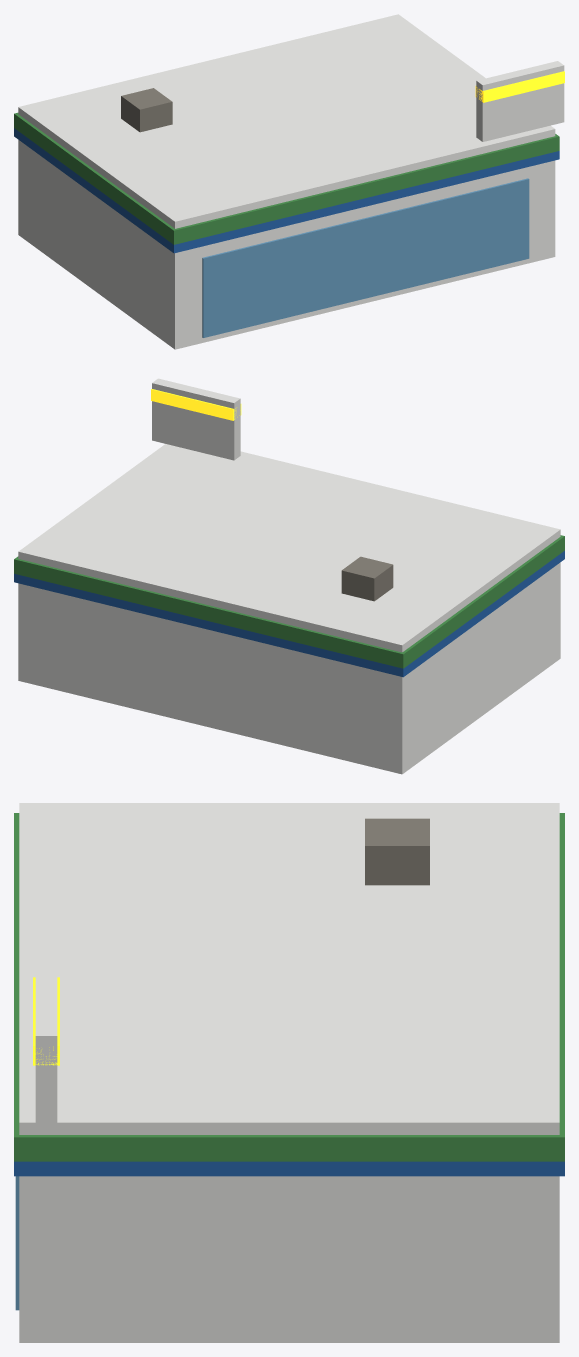
File: city_corner_store.glb
3 renders of one model, top to bottom at view 1: azimuth 30°, elevation 25°; view 2: azimuth 150°, elevation 25°; view 3: azimuth 270°, elevation 25°, orthographic. The views are drawn at different scales.
Parts seen in each view (by area): view 1: city_corner_store_white, city_corner_store_glass, city_corner_store_green, city_corner_store_blue, city_corner_store_concreteDark, city_corner_store_glowAmber; view 2: city_corner_store_white, city_corner_store_green, city_corner_store_blue, city_corner_store_concreteDark, city_corner_store_glowAmber; view 3: city_corner_store_white, city_corner_store_green, city_corner_store_blue, city_corner_store_concreteDark, city_corner_store_glass.
Part boxes in pixels (x1=…): city_corner_store_white: x1=18, y1=14, x2=564, y2=349; city_corner_store_glass: x1=202, y1=178, x2=529, y2=337; city_corner_store_green: x1=14, y1=112, x2=559, y2=244; city_corner_store_blue: x1=14, y1=128, x2=559, y2=253; city_corner_store_concreteDark: x1=121, y1=88, x2=172, y2=132; city_corner_store_glowAmber: x1=475, y1=71, x2=564, y2=102; city_corner_store_white: x1=18, y1=378, x2=560, y2=774; city_corner_store_green: x1=14, y1=535, x2=564, y2=668; city_corner_store_blue: x1=14, y1=551, x2=564, y2=677; city_corner_store_concreteDark: x1=341, y1=556, x2=393, y2=601; city_corner_store_glowAmber: x1=151, y1=389, x2=241, y2=420; city_corner_store_white: x1=19, y1=803, x2=559, y2=1342; city_corner_store_green: x1=14, y1=813, x2=564, y2=1161; city_corner_store_blue: x1=14, y1=1161, x2=564, y2=1176; city_corner_store_concreteDark: x1=365, y1=818, x2=429, y2=885; city_corner_store_glass: x1=15, y1=1176, x2=19, y2=1310.
Size of the model in its own units: 14.6 by 6.5 by 10.2.
